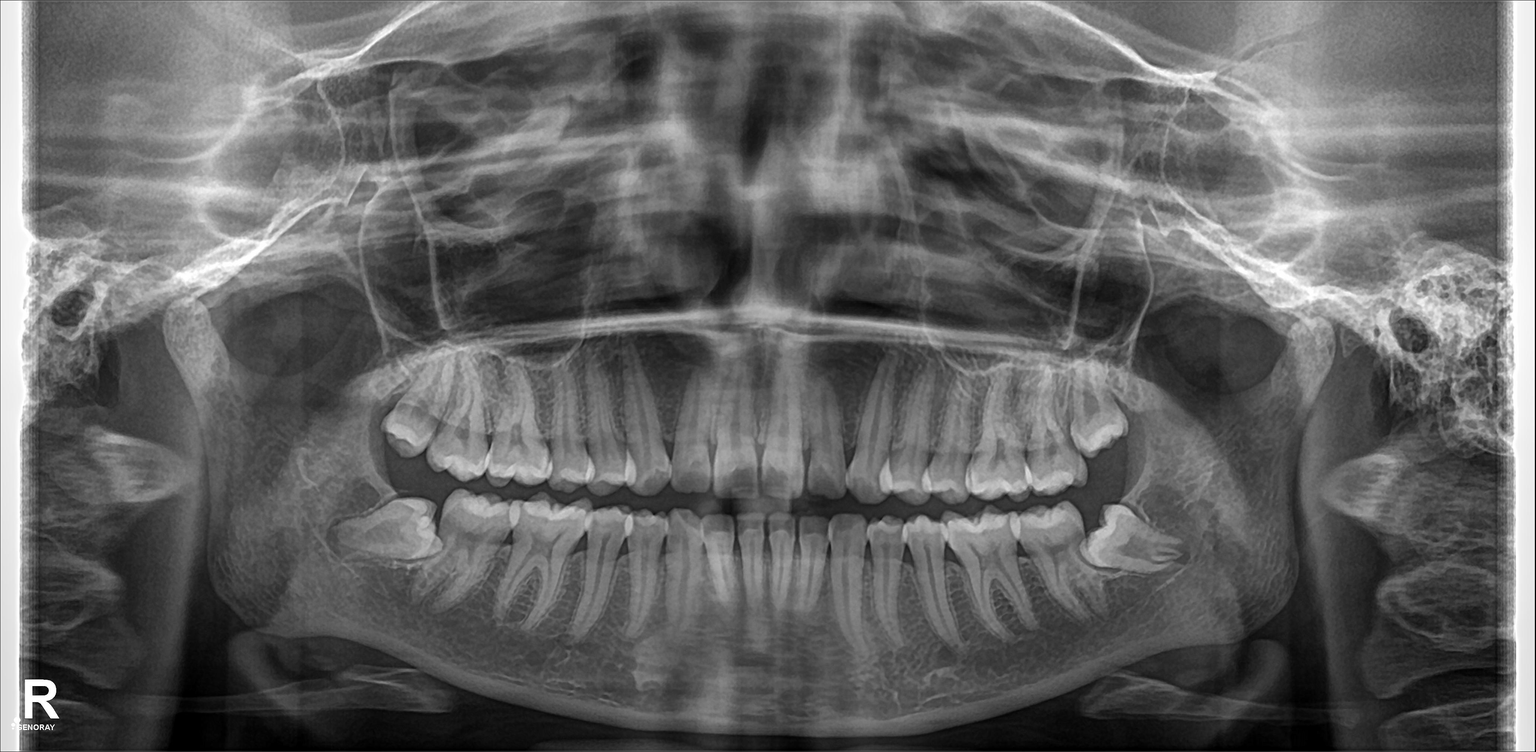Dental Caries: (756, 469, 791, 503), (719, 465, 751, 498)
Impacted Third Molar: (1089, 501, 1184, 576), (341, 499, 444, 565)
